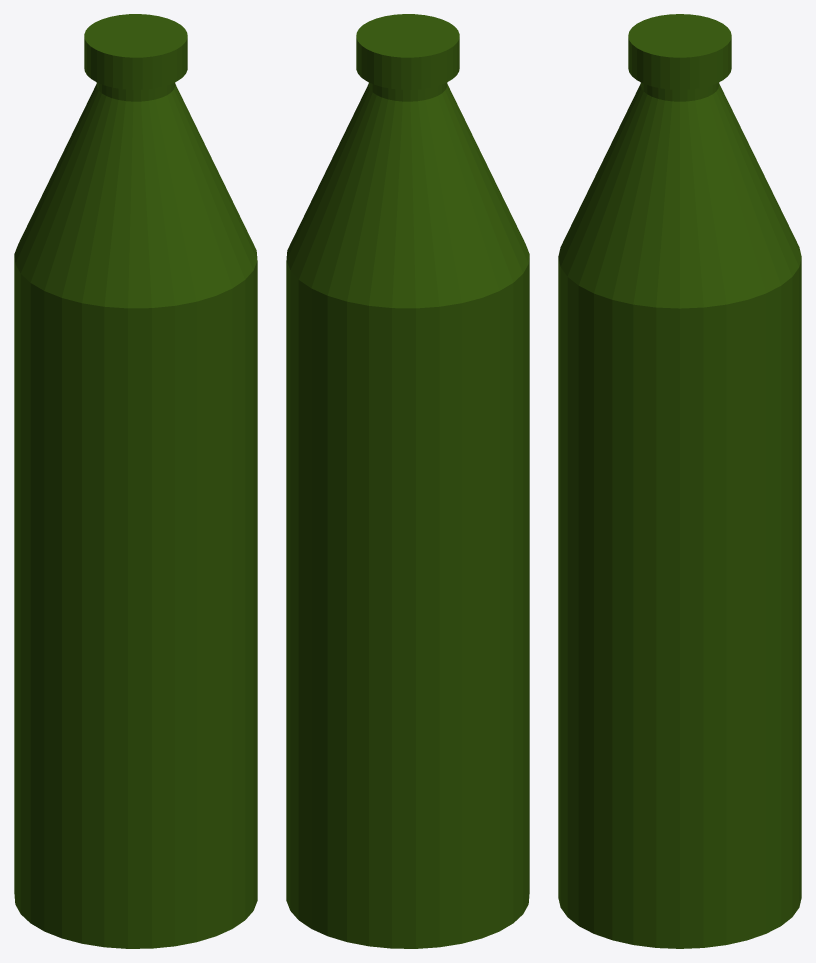
Rendered from envi8.fbx.
The picture shows the model from 3 angles, left to right: view 1: azimuth 30°, elevation 25°; view 2: azimuth 150°, elevation 25°; view 3: azimuth 270°, elevation 25°; orthographic projection.
Visible parts, largest first — view 1: Cylinder.001; view 2: Cylinder.001; view 3: Cylinder.001.
Boxes of the visible parts, bbox=[...] form: Cylinder.001: bbox=[14, 14, 257, 948]; Cylinder.001: bbox=[286, 14, 529, 948]; Cylinder.001: bbox=[558, 14, 801, 948].
Bounding box in the file's own units: 38.38 × 150 × 38.38.
